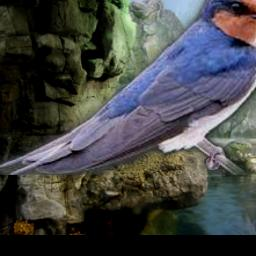Swallow: (0, 0, 256, 176)
